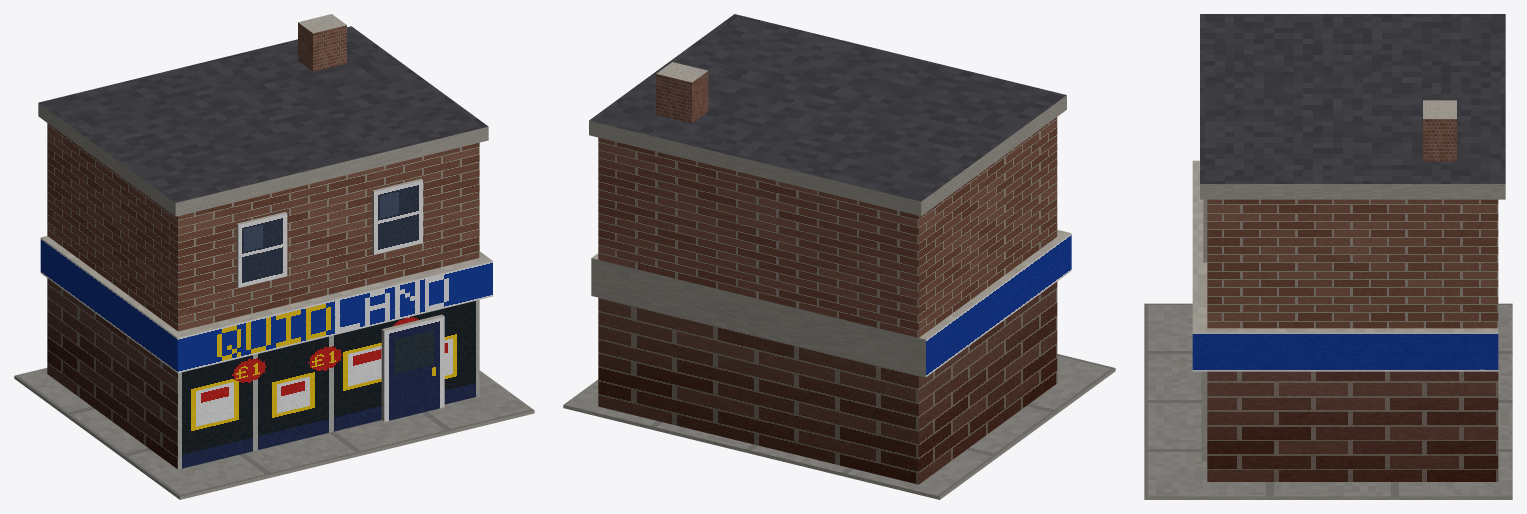
Rendered from building_quidland.glb.
The picture shows the model from 3 angles, left to right: view 1: azimuth 30°, elevation 25°; view 2: azimuth 150°, elevation 25°; view 3: azimuth 270°, elevation 25°; orthographic projection. The views are drawn at different scales.
Visible parts, largest first — view 1: Building_Quidland; view 2: Building_Quidland; view 3: Building_Quidland.
Boxes of the visible parts, left/top/right/bottom form: Building_Quidland: left=14, top=14, right=534, bottom=499; Building_Quidland: left=563, top=14, right=1115, bottom=499; Building_Quidland: left=1144, top=14, right=1512, bottom=499.
Size of the model in its own units: 9.4 by 7.9 by 7.6.
1 material, 1 textured.
